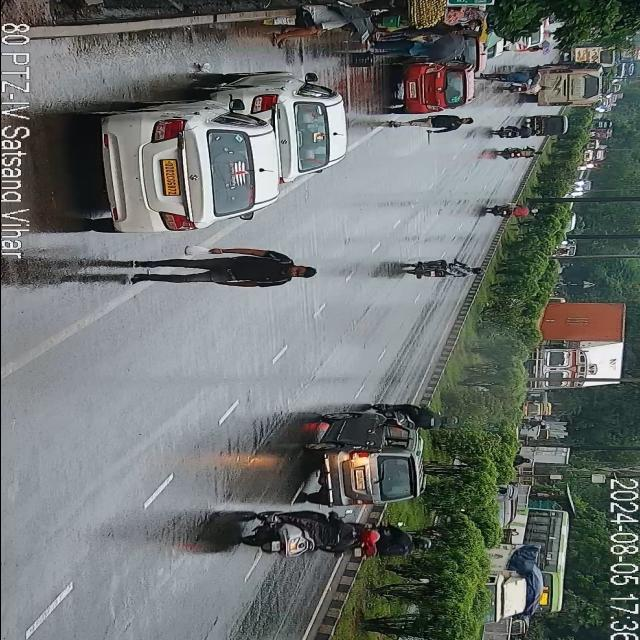2-wheelers: (234, 505, 370, 561), (318, 522, 428, 562), (373, 401, 459, 431), (397, 260, 492, 281), (481, 200, 535, 222), (491, 122, 539, 142), (497, 148, 539, 164), (496, 84, 550, 94)
auto: (532, 115, 566, 138), (522, 391, 548, 417)
bus: (498, 507, 566, 618), (530, 59, 602, 109)
car: (95, 100, 276, 236), (302, 408, 427, 512), (228, 75, 348, 176), (394, 59, 473, 117)
pedestrian: (121, 242, 317, 290), (266, 1, 362, 52), (370, 30, 470, 60), (384, 112, 474, 134)
truck: (524, 300, 632, 391)
